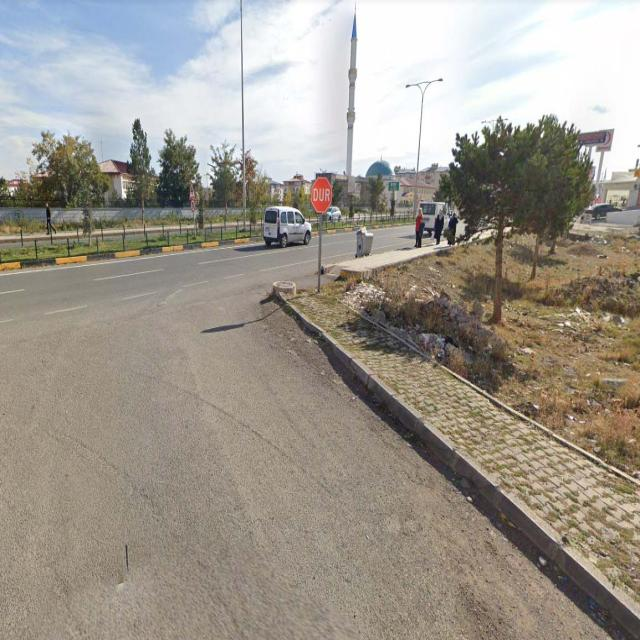dur: (312, 178, 331, 214)
